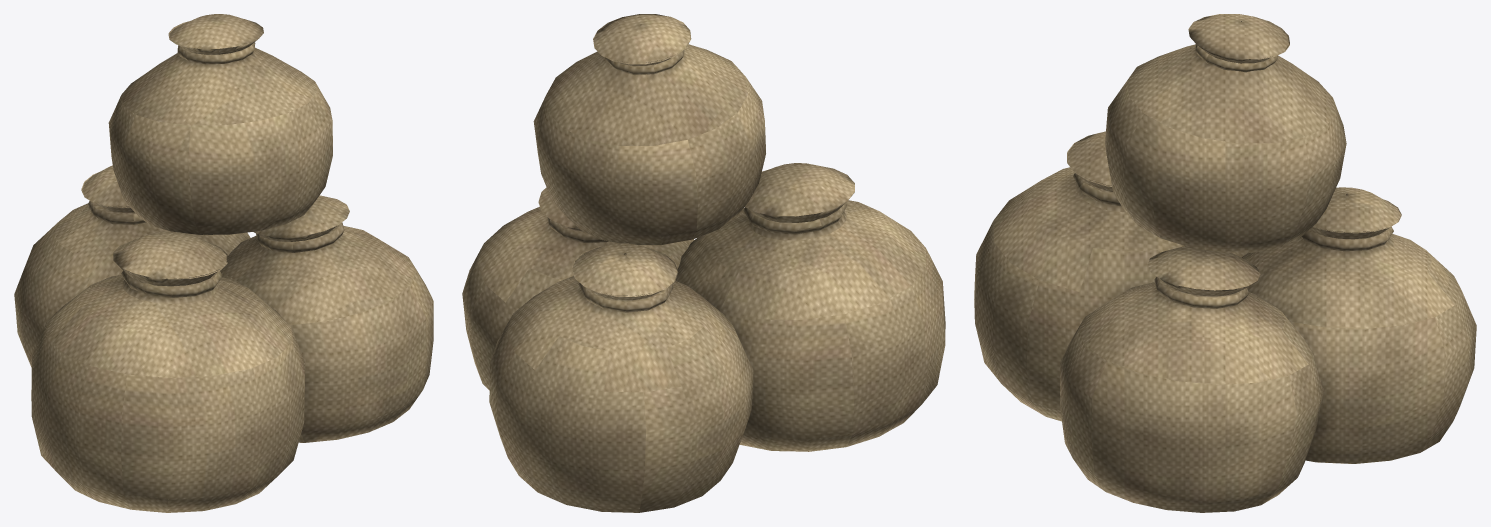
File: p_sacks.glb
The picture shows the model from 3 angles, left to right: view 1: azimuth 30°, elevation 25°; view 2: azimuth 150°, elevation 25°; view 3: azimuth 270°, elevation 25°; orthographic projection. The views are drawn at different scales.
Parts seen in each view (by area): view 1: sacks; view 2: sacks; view 3: sacks.
Boxes of the visible parts, left/top/right/bottom form: sacks: left=14, top=14, right=433, bottom=512; sacks: left=462, top=14, right=945, bottom=512; sacks: left=974, top=14, right=1476, bottom=512.
Bounding box in the file's own units: 1.01 × 0.9563 × 1.03.
1 material, 1 textured.
